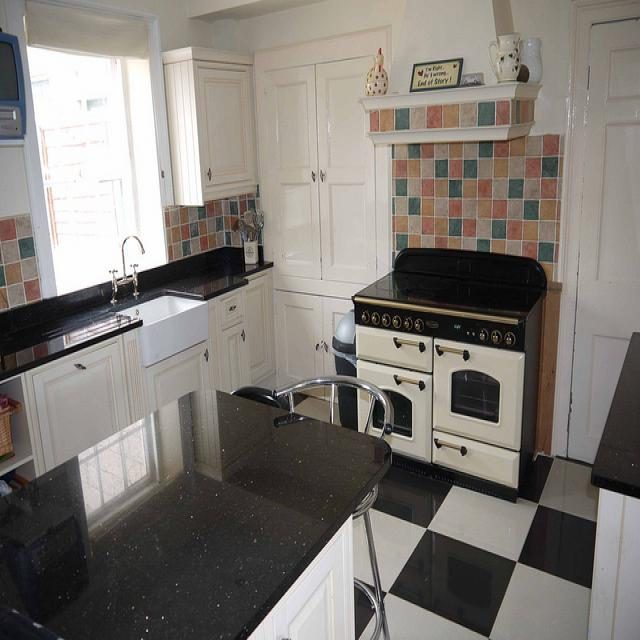chair: (273, 376, 394, 438)
dining table: (34, 386, 396, 640)
